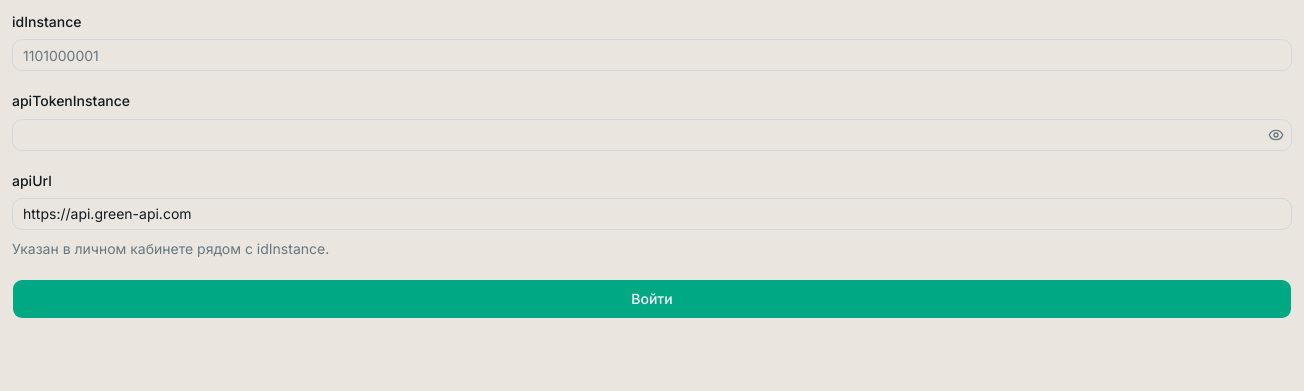
Test: LoginForm › показывает ошибки валидации и не ходит в API
Type "abc" into the field labelled "idInstance". click: [652, 55]
box: [12,39,1292,71]
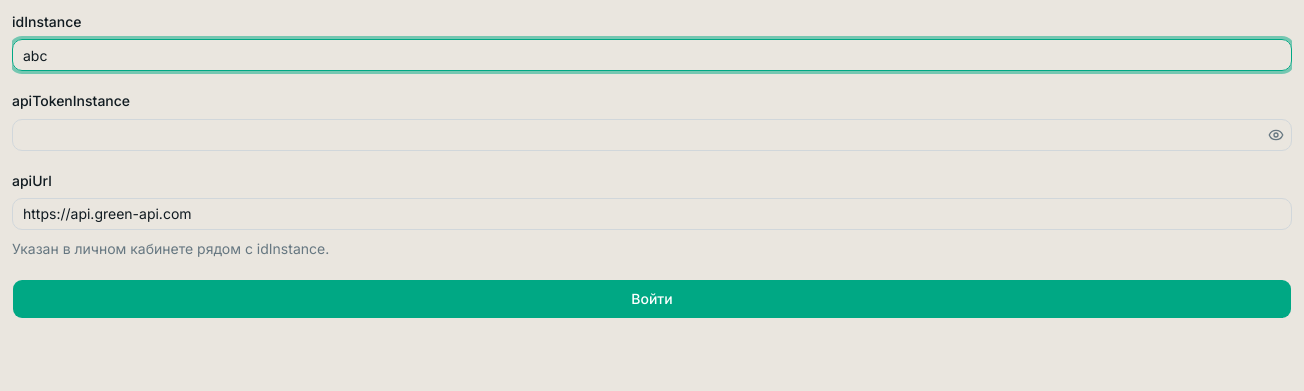
Click the button "Войти". click: [652, 299]
box: [12,279,1292,319]
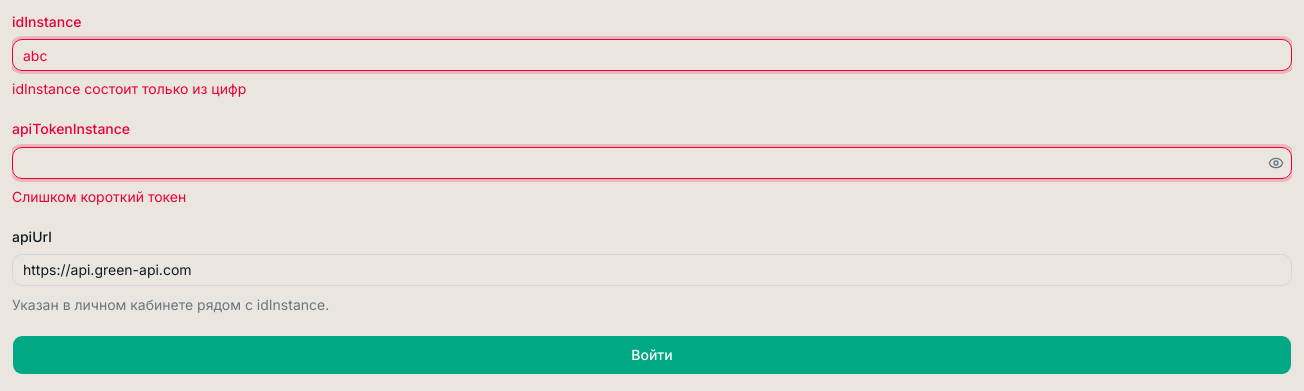
Expected: the text "idInstance состоит только из цифр" is shown, [12,80,246,97]
Expected: the text "Слишком короткий токен" is shown, [12,188,186,204]
